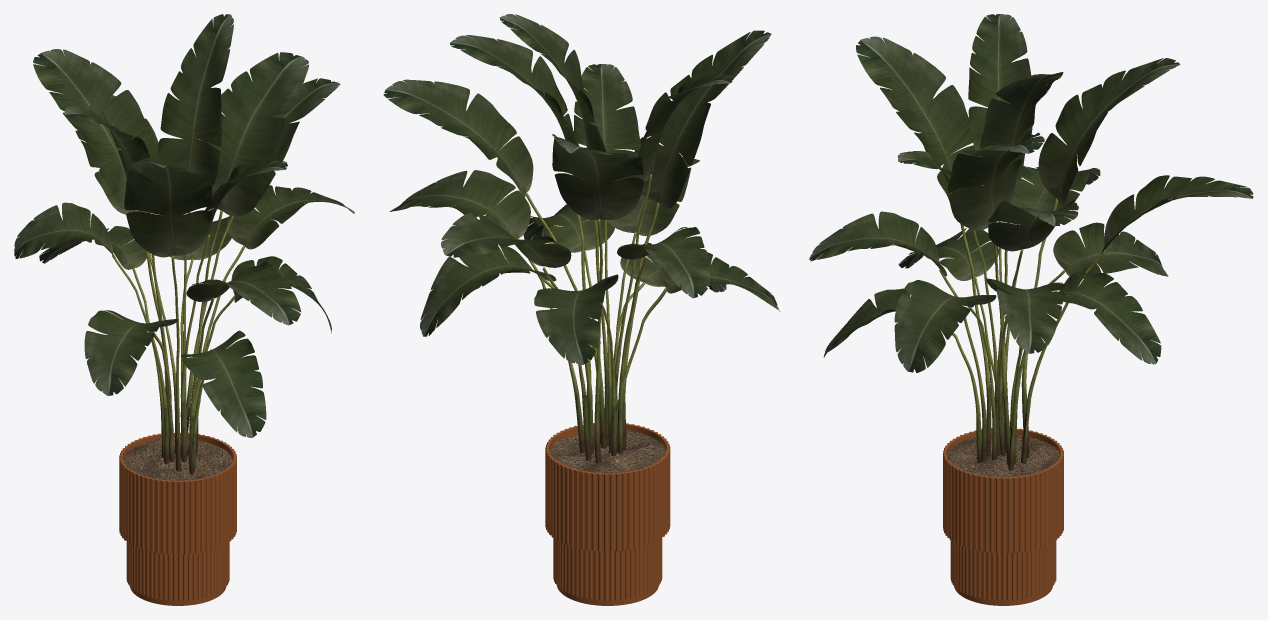
The model's file is plant.glb.
The picture shows the model from 3 angles, left to right: view 1: azimuth 30°, elevation 25°; view 2: azimuth 150°, elevation 25°; view 3: azimuth 270°, elevation 25°; orthographic projection. The views are drawn at different scales.
Visible parts, largest first — view 1: SM_Plant_2; view 2: SM_Plant_2; view 3: SM_Plant_2.
Part boxes in pixels (<box>): SM_Plant_2: <box>14,14,354,605</box>; SM_Plant_2: <box>383,14,780,605</box>; SM_Plant_2: <box>809,14,1253,605</box>.
Bounding box in the file's own units: 0.7065 × 1.14 × 0.8399.
3 materials, 2 textured.
